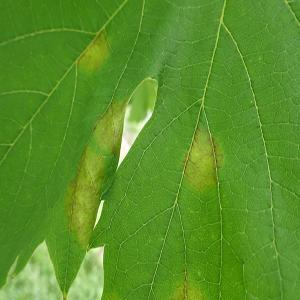Folha: (0, 0, 300, 299)
Fungo: (64, 76, 158, 250), (183, 120, 222, 193), (77, 27, 113, 73), (175, 272, 208, 300)
